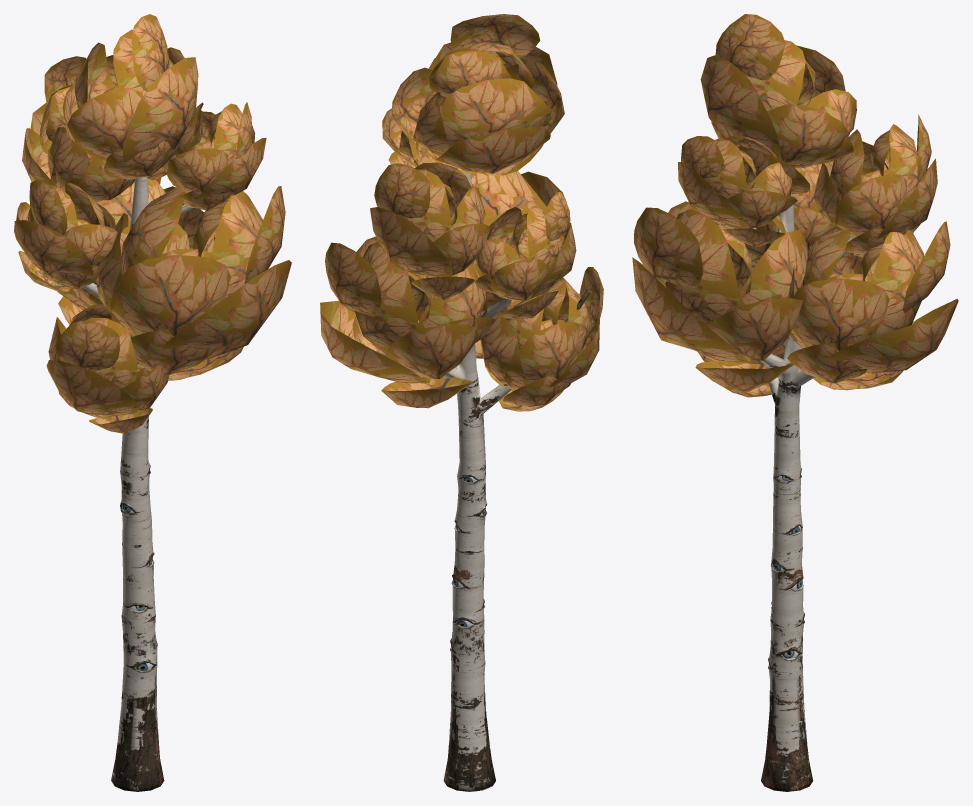
File: SM_Birch01.fbx
3 views of the same model, side by side, from view 1: azimuth 30°, elevation 25°; view 2: azimuth 150°, elevation 25°; view 3: azimuth 270°, elevation 25° (orthographic).
Parts seen in each view (by area): view 1: SM_Birch01_LOD0; view 2: SM_Birch01_LOD0; view 3: SM_Birch01_LOD0.
Part boxes in pixels (x1,y1,x2,y2): SM_Birch01_LOD0: [14, 14, 291, 791]; SM_Birch01_LOD0: [320, 14, 603, 791]; SM_Birch01_LOD0: [632, 14, 958, 791].
Size of the model in its own units: 464 by 626 by 1602.
Materials: 2 (2 with a texture image).
